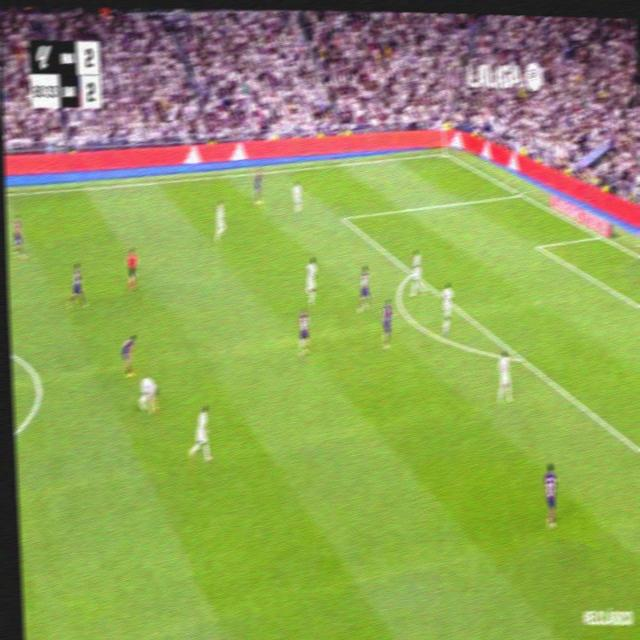bigarea_top_inner: (339, 210, 346, 225)
bigarea_top_outter: (515, 186, 524, 200)
bottom_arc_area_intersection: (514, 346, 526, 368)
corner: (439, 147, 449, 158)
smallarea_top_inner: (532, 238, 542, 252)
top_arc_area_intersection: (408, 266, 415, 279)
